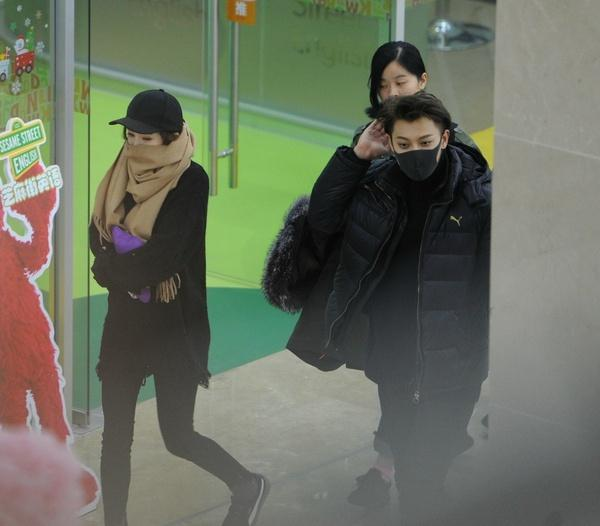face: (376, 64, 419, 109)
face_mask: (393, 119, 441, 179), (126, 122, 163, 169)
